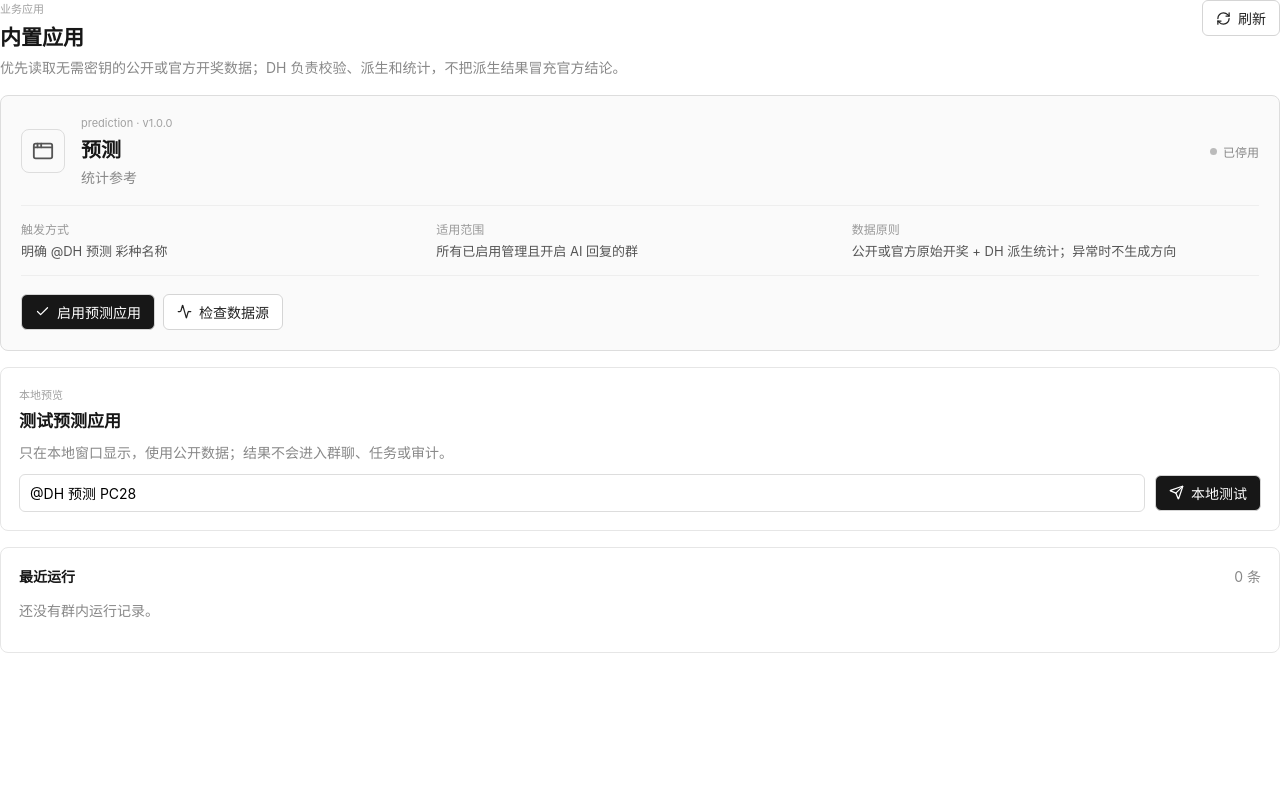
Test: 业务应用页 › shows the disabled app, health check and local preview
Check: the heading "预测" is shown, box [81,138,121,162]
Click the button "检查数据源" at coordinates (223, 312), box [163,294,283,330]
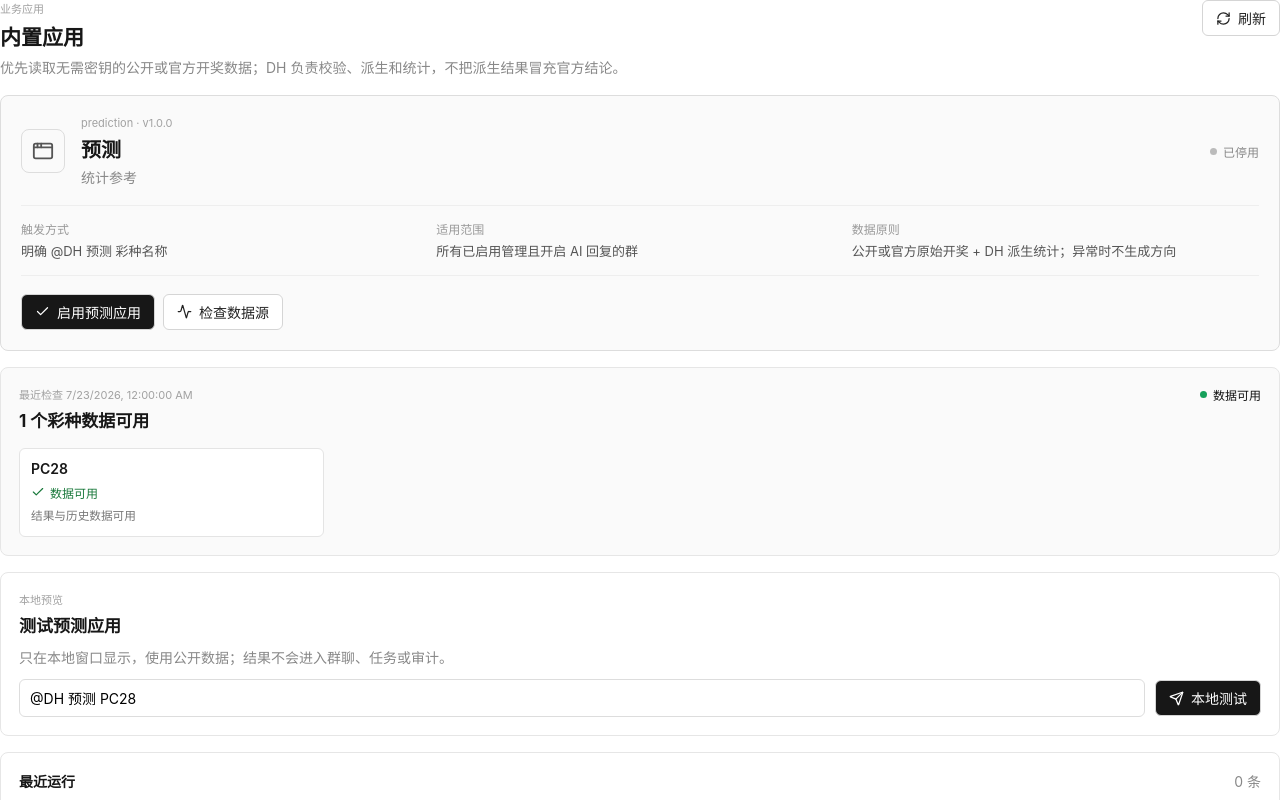
Click the button "本地测试" at coordinates (1208, 698), box [1155,680,1261,716]
(page scrolled)
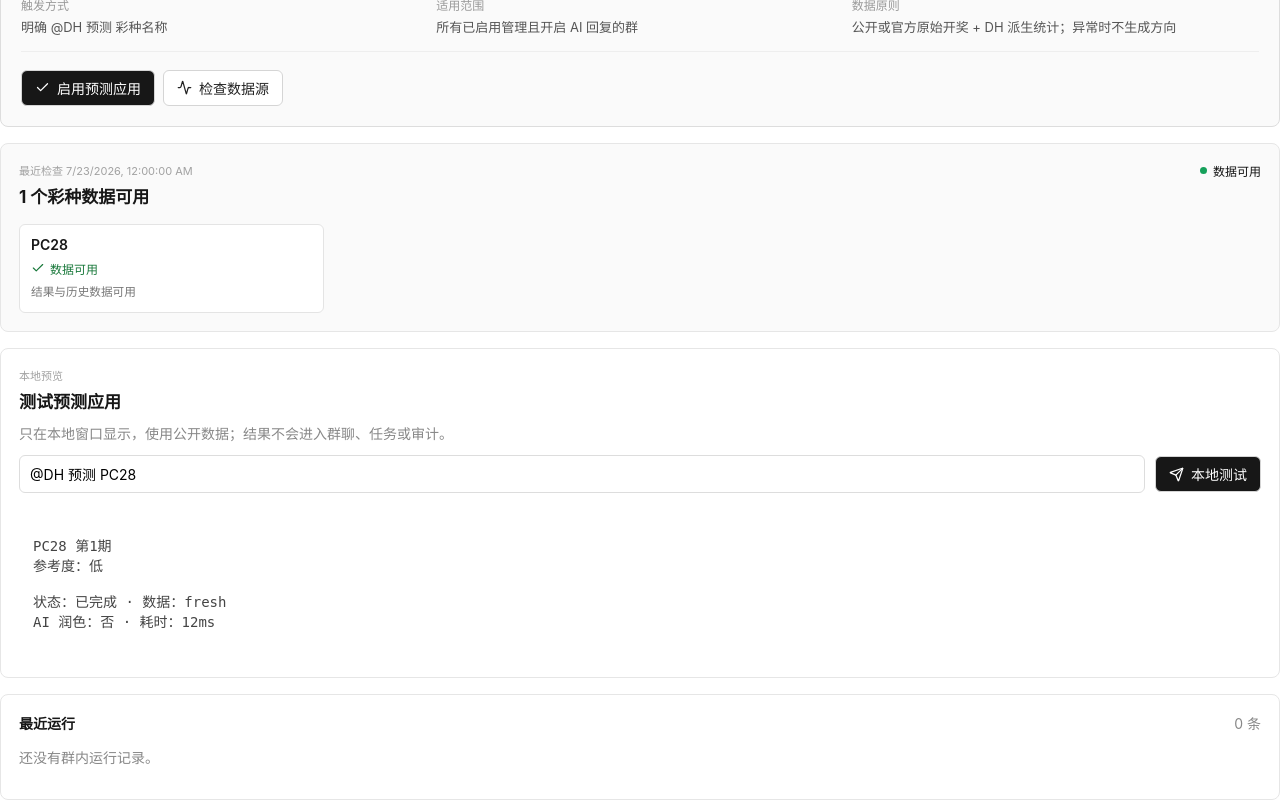
Check: the text "PC28 第1期 参考度：低 状态：已完成 · 数据：fresh AI 润色：否 · 耗时：12ms" is shown, box [19,521,1261,645]
